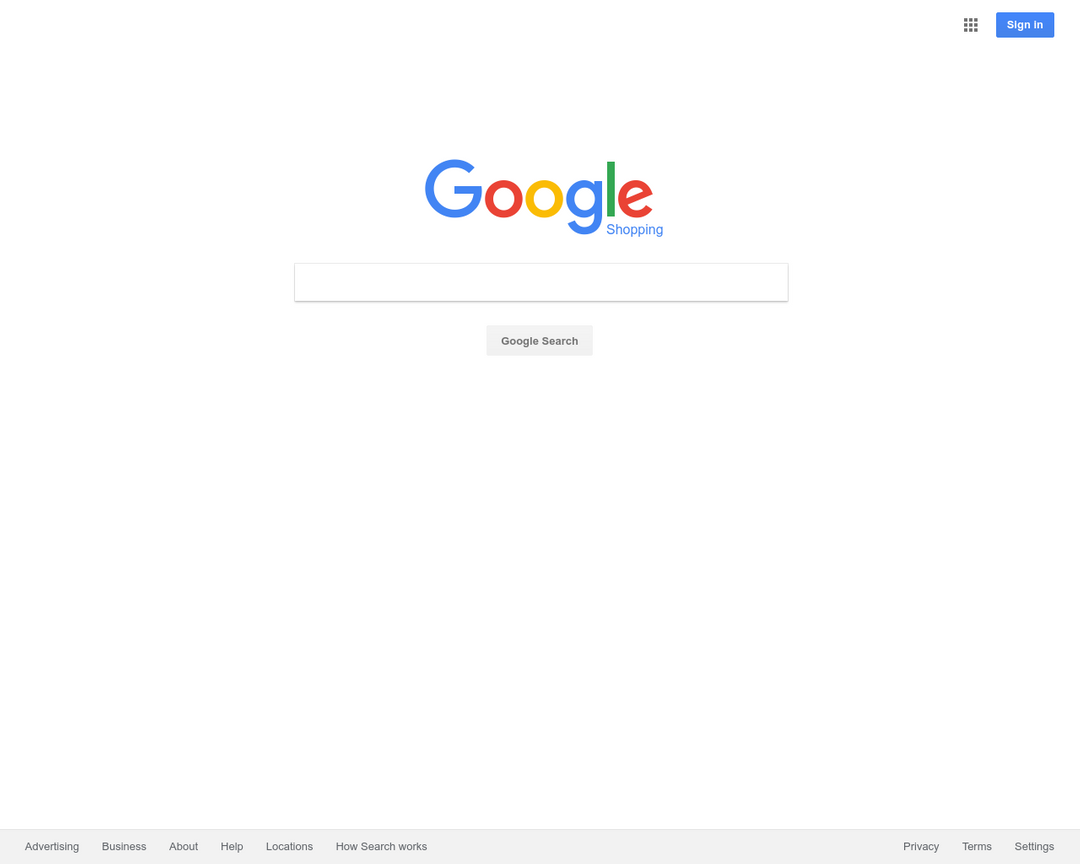Google: (507, 259, 573, 282)
